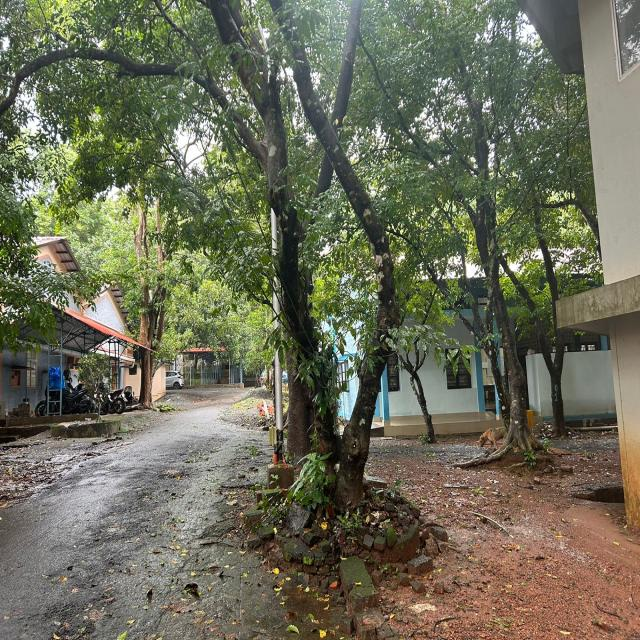tree ahead at: (246, 150, 417, 595)
